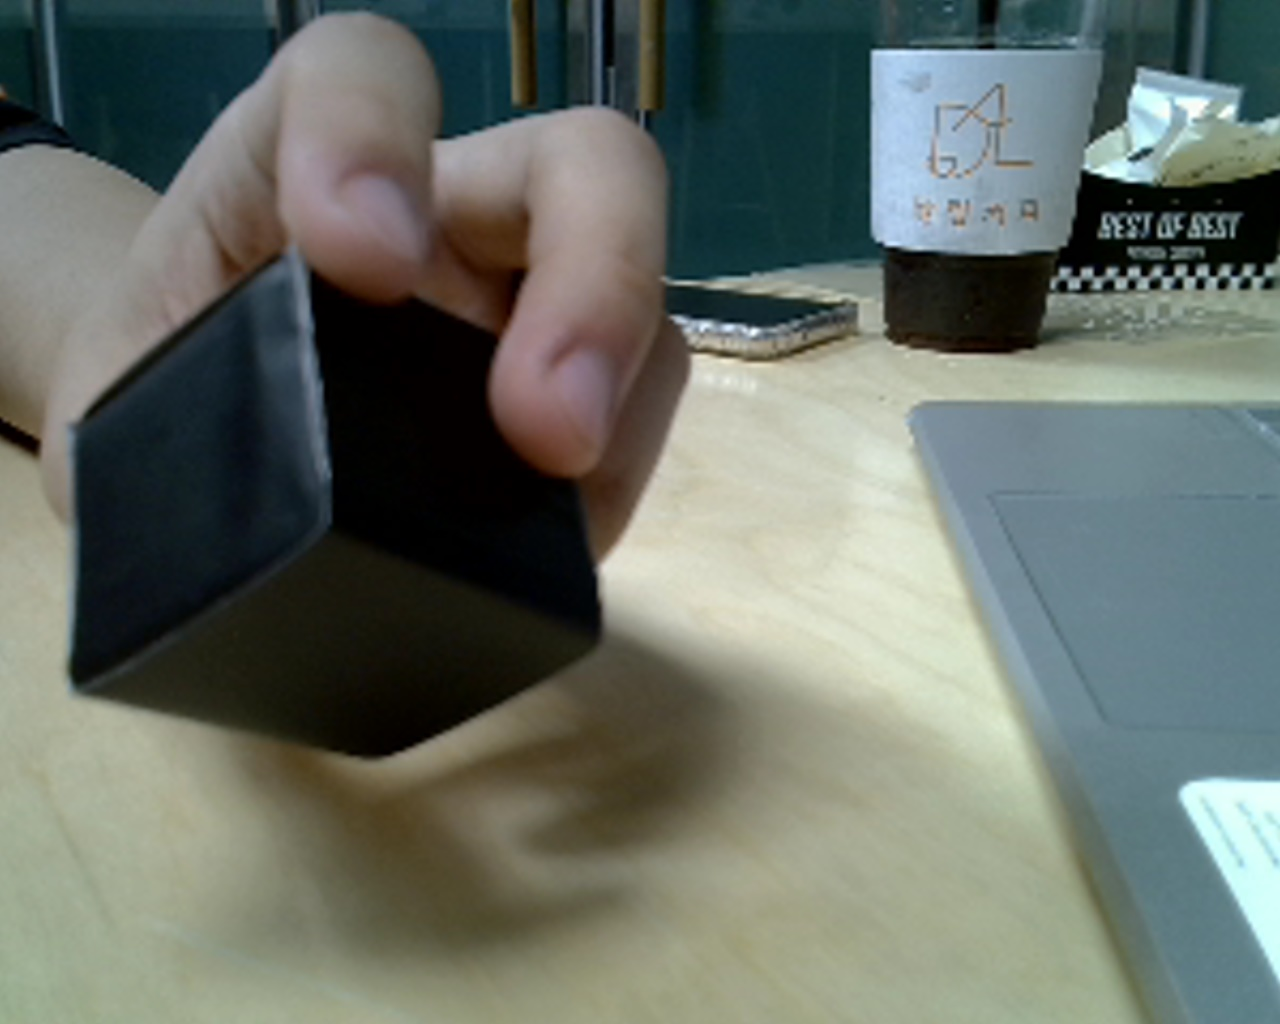blackbox: (40, 222, 681, 792)
